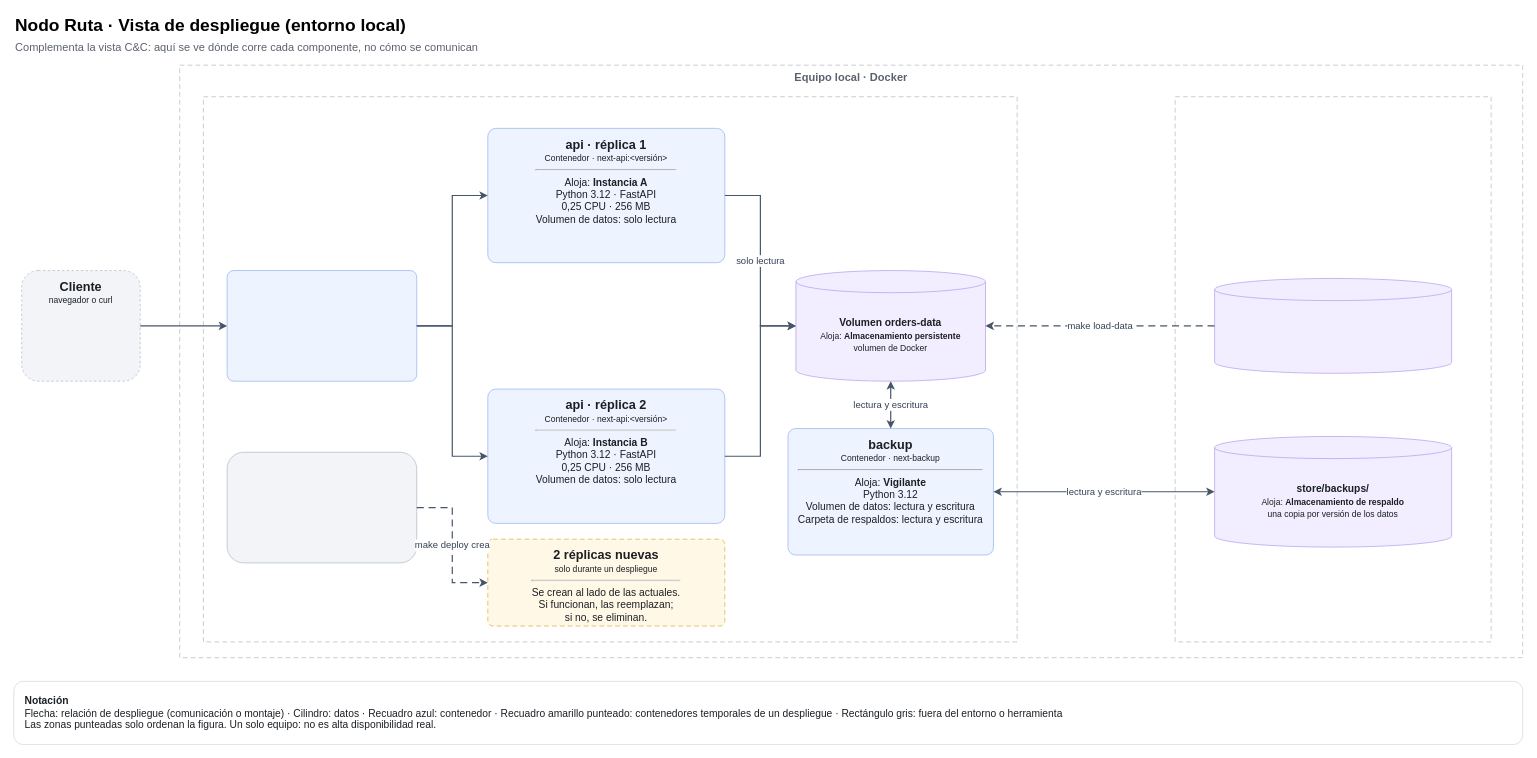
The diagram is 1537 pixels wide and 758 high, and some of its shapes have lost their labels. The box of each missing label's shape, as (x1, y1, x2, y2) in pixels:
haproxy Contenedor · haproxy:2.9-alpine Aloja: Balanceador 1 contenedor: (226, 270, 417, 381)
Makefile raíz del repositorio make up · down make deploy · verify: (226, 451, 417, 563)
Red de Compose · next_default: (203, 96, 1017, 642)
Sistema de archivos del equipo · next/store/: (1174, 96, 1491, 642)
store/data/orders.json datos iniciales: (1214, 278, 1452, 373)
